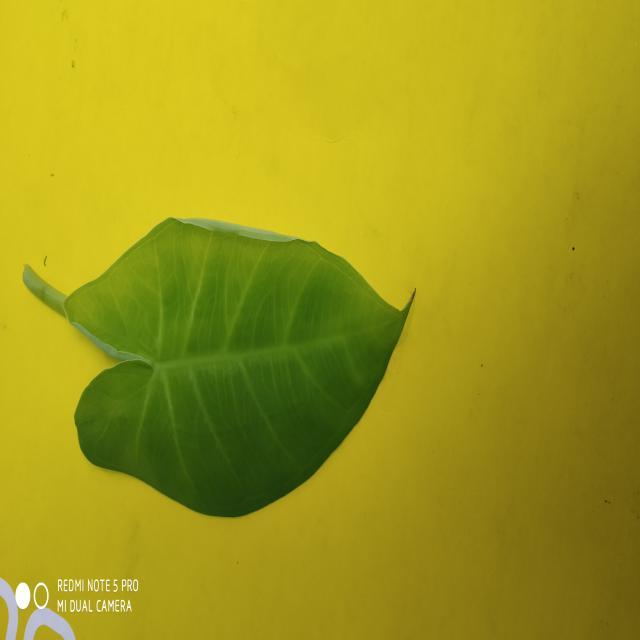leaf: (21, 214, 416, 518)
